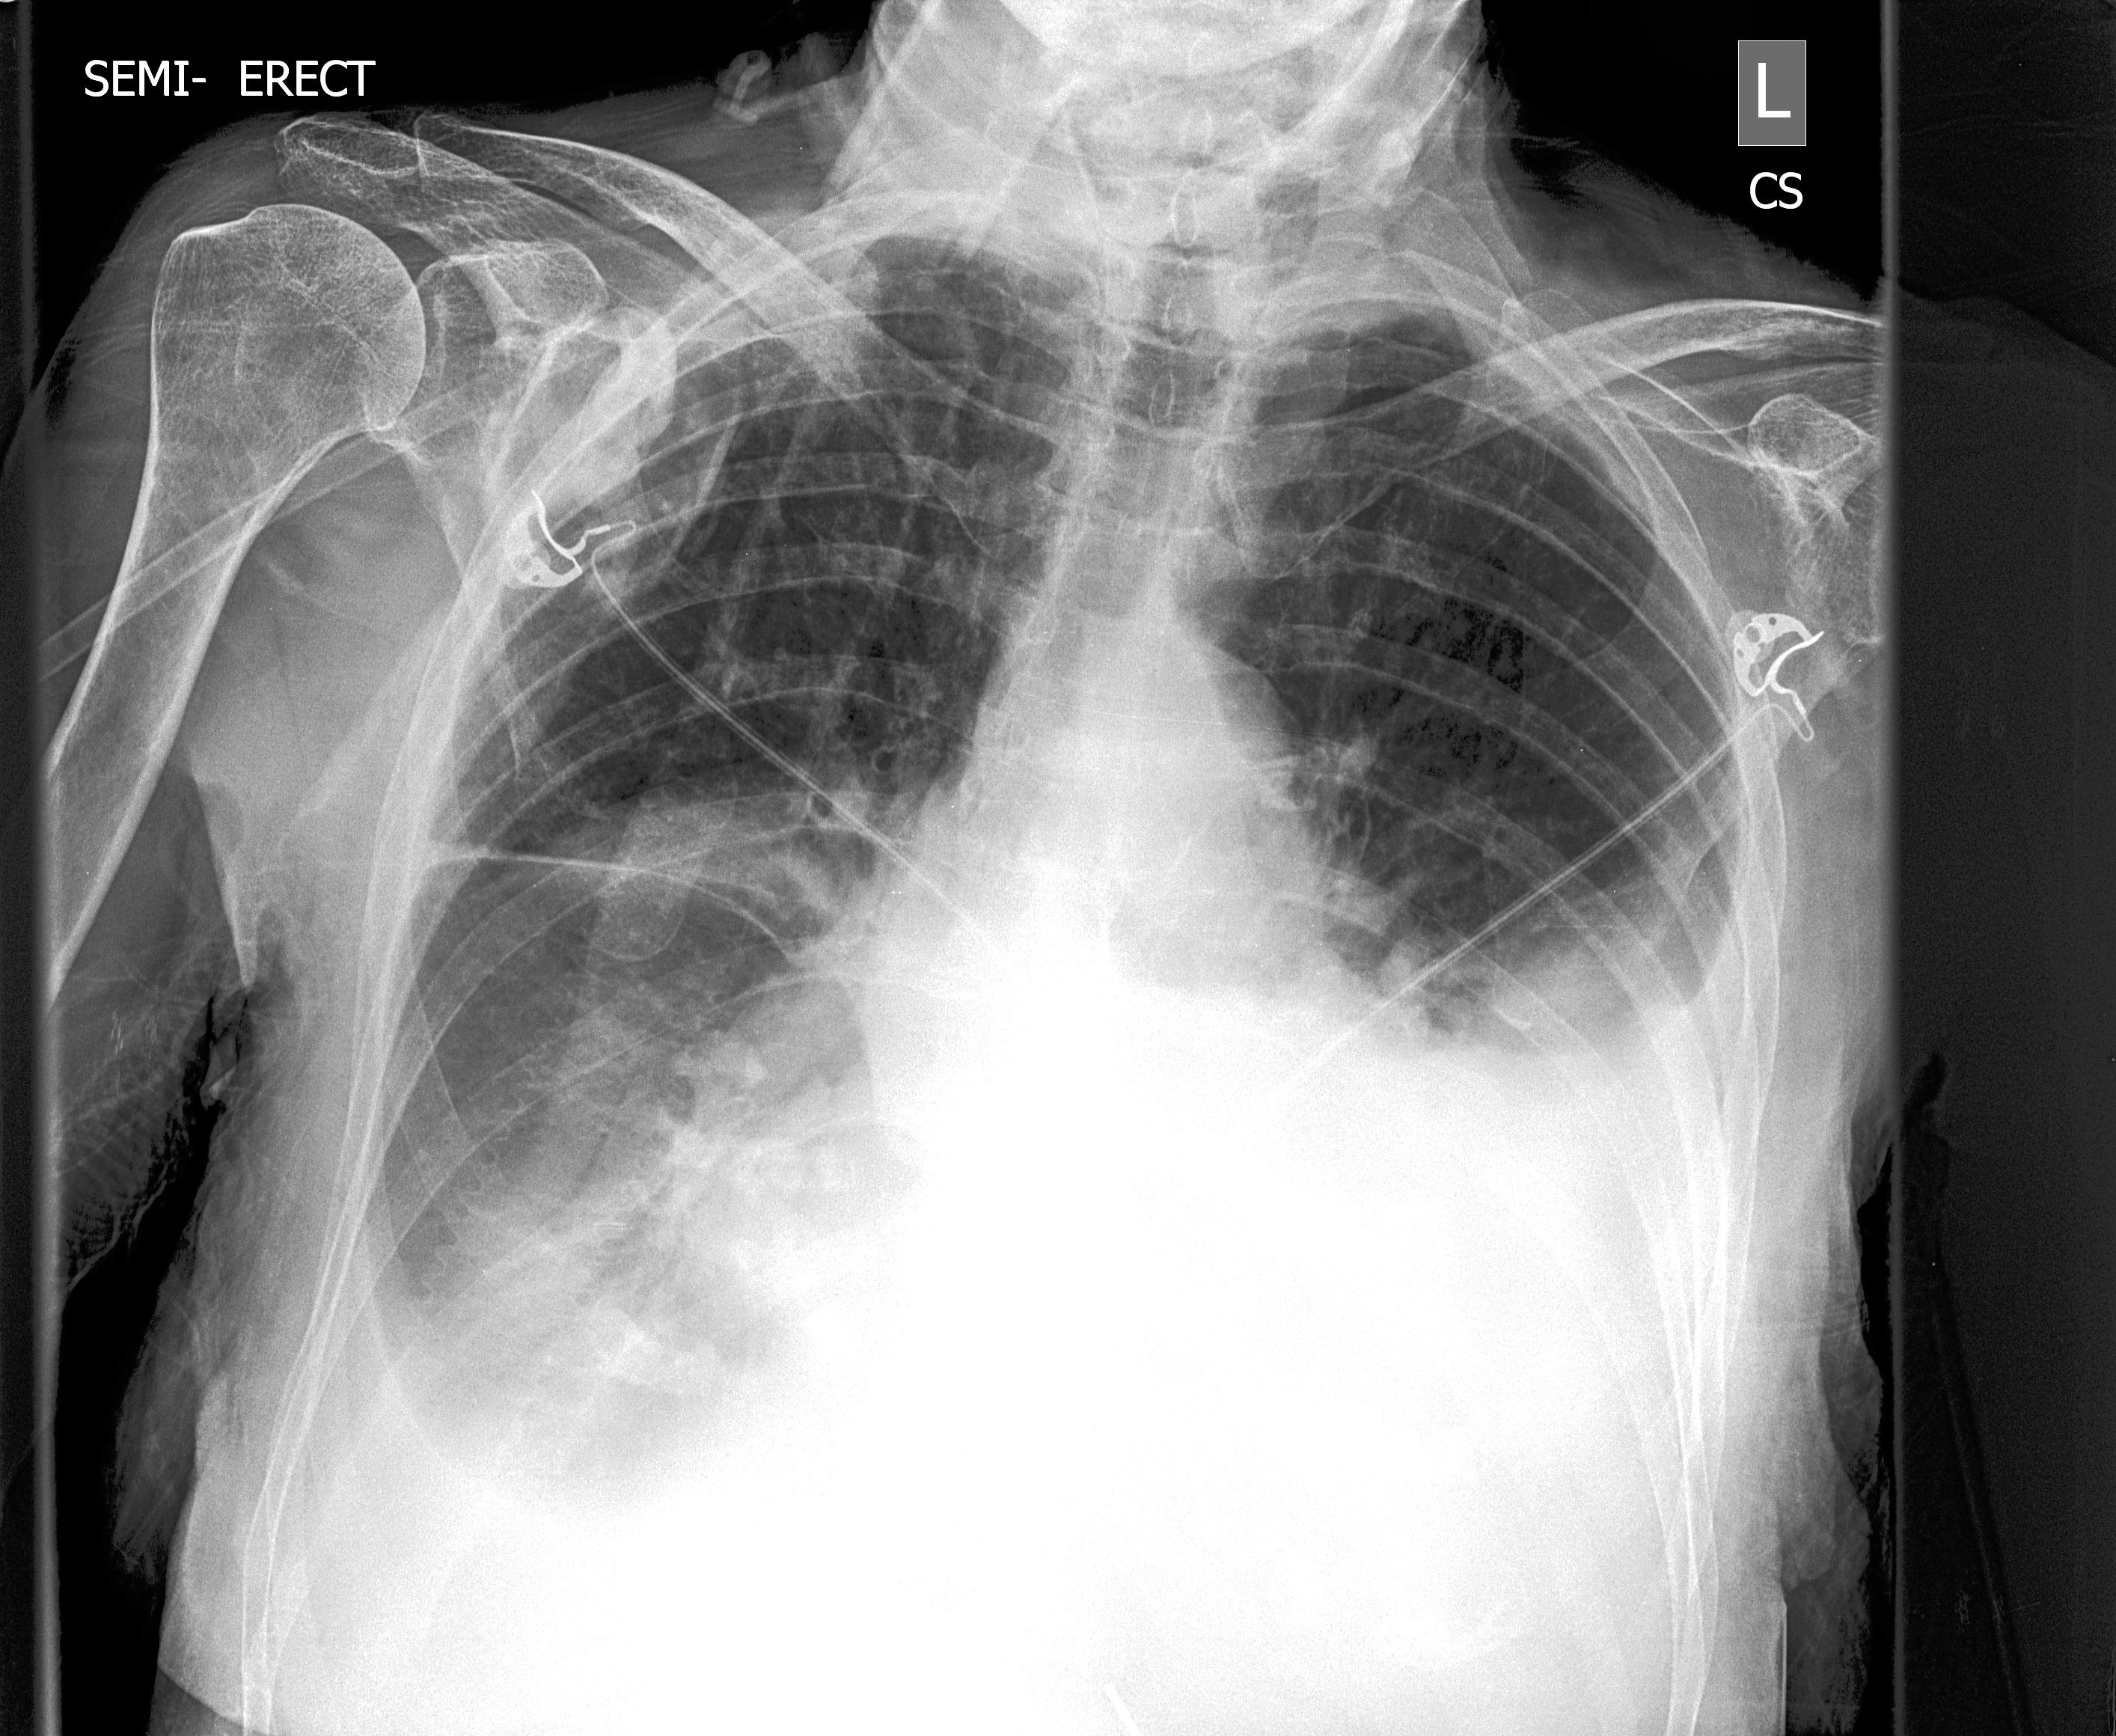Pleural Effusion: (1373, 917, 1801, 1328), (265, 1297, 699, 1638)
